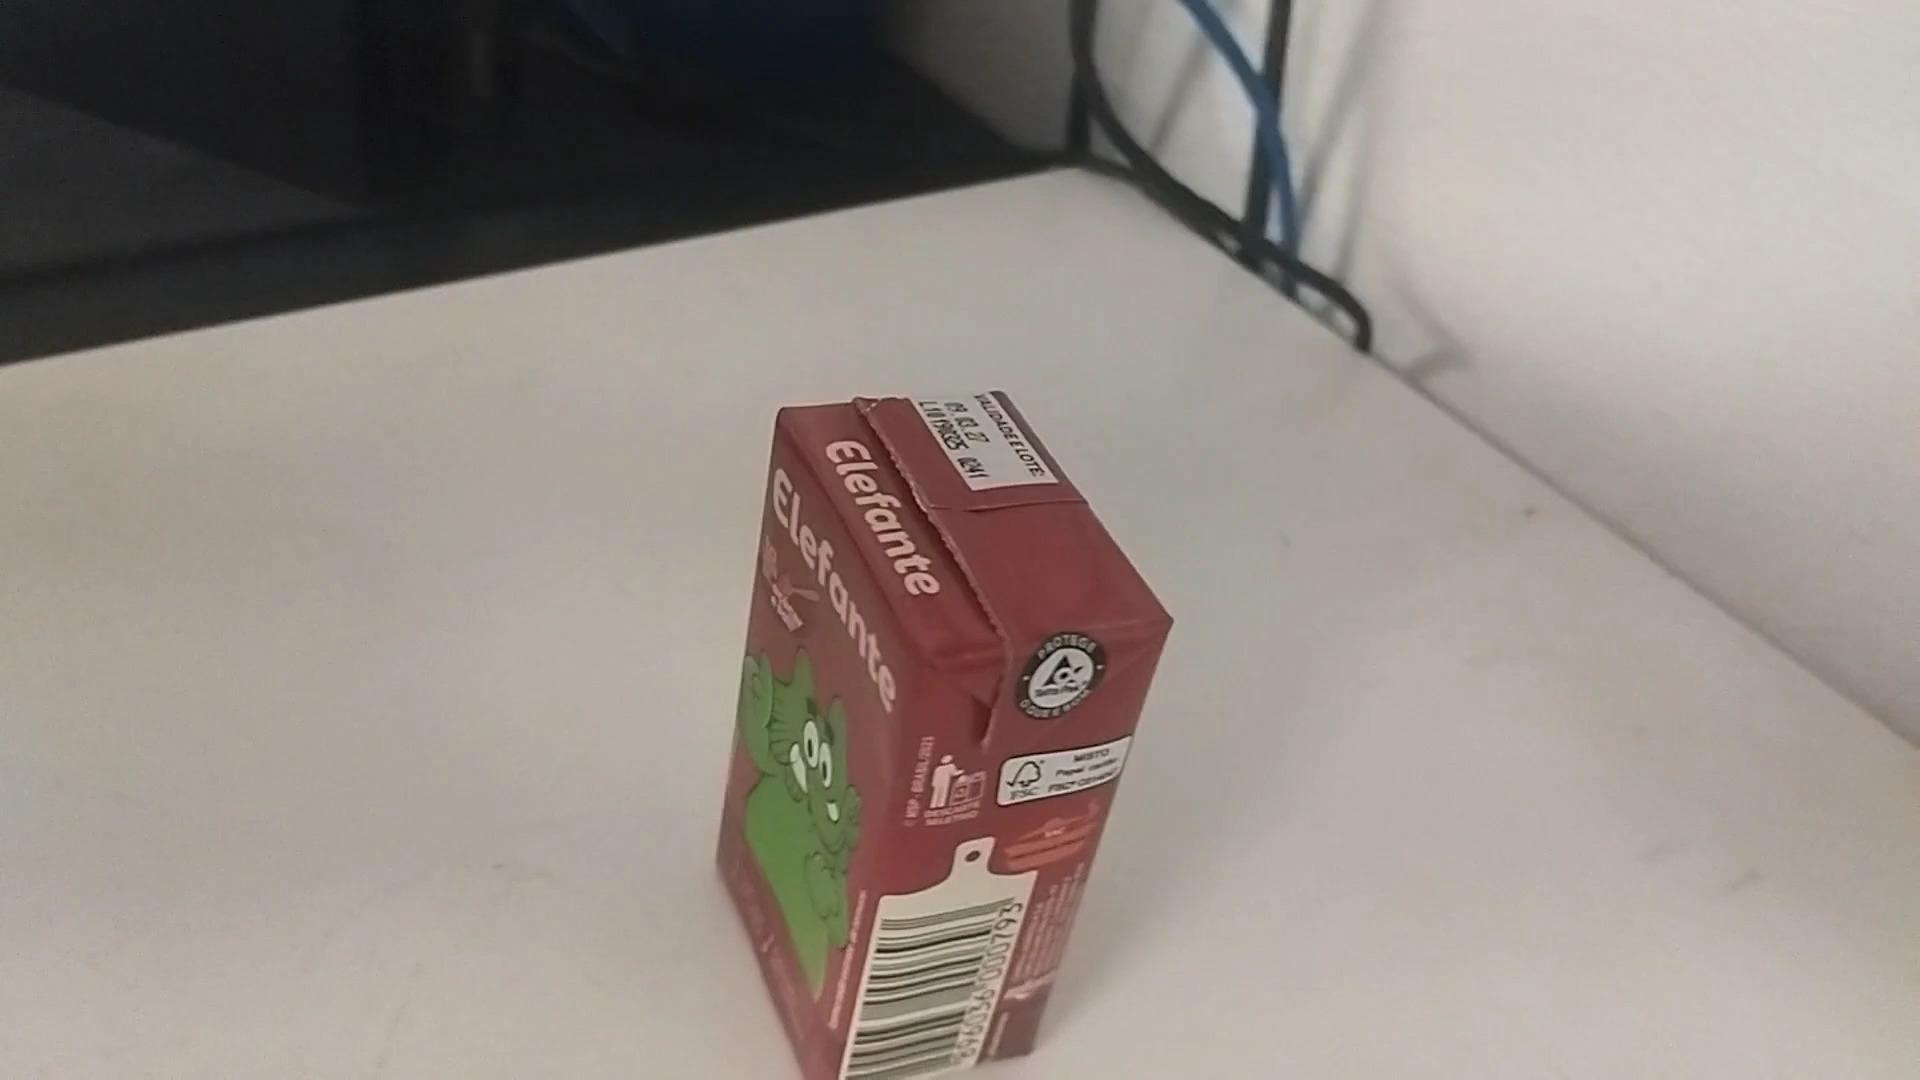tomate: (717, 368, 1182, 1073)
